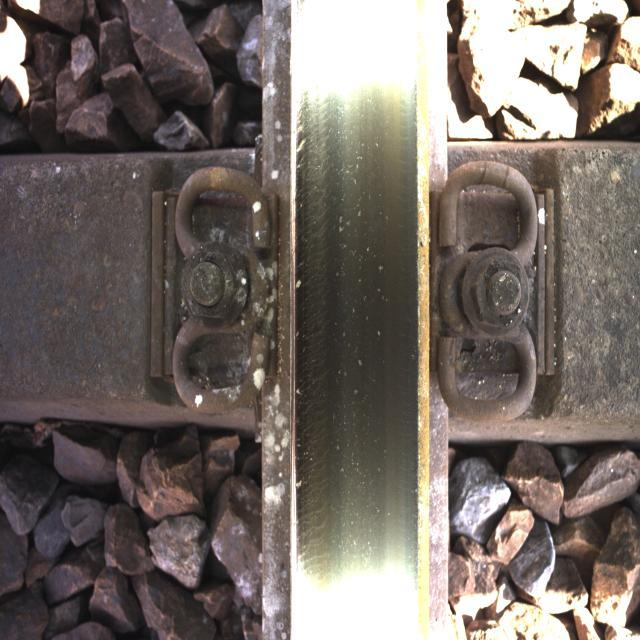normal: (296, 19, 404, 585)
